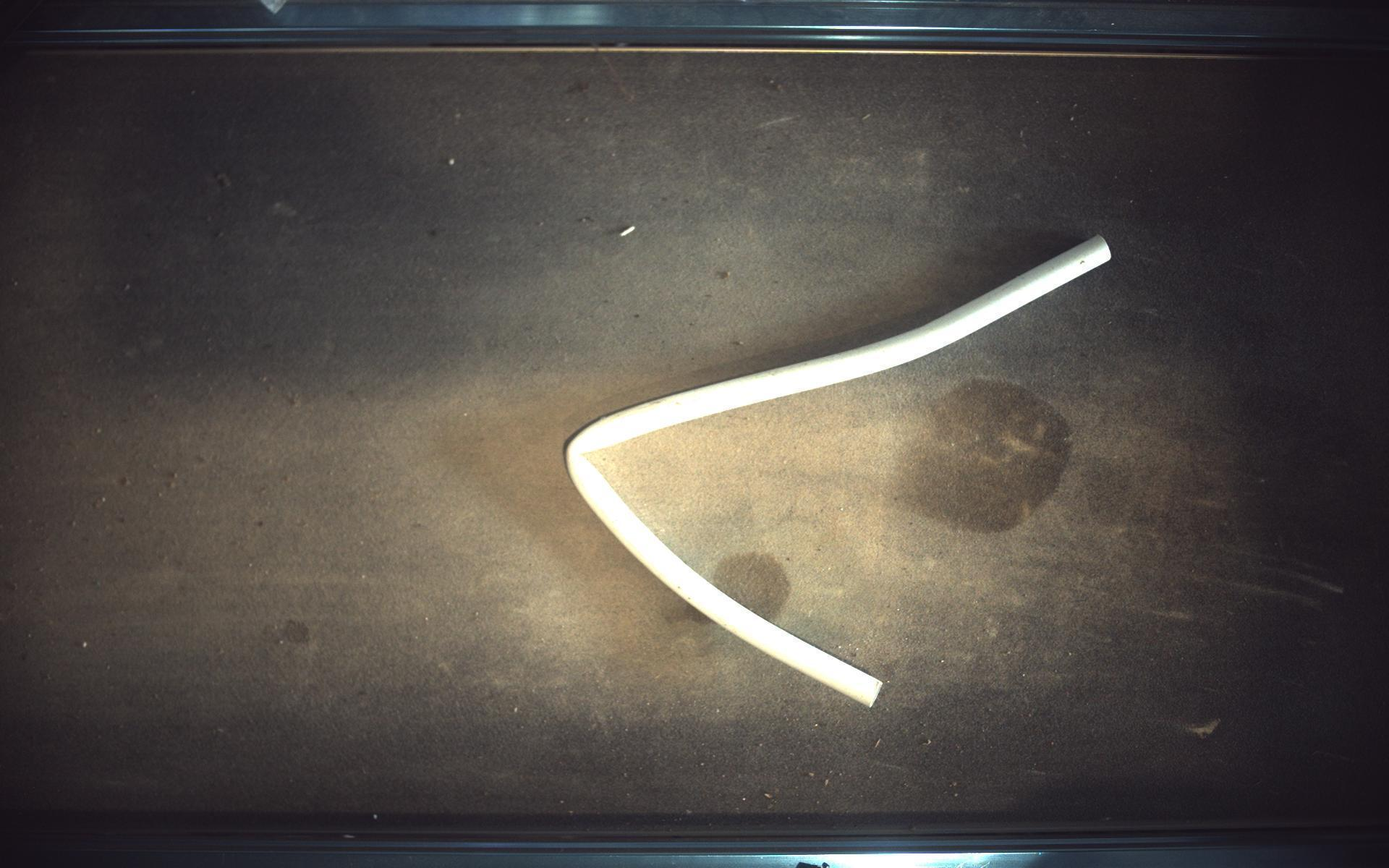pipes: (569, 235, 1113, 707)
